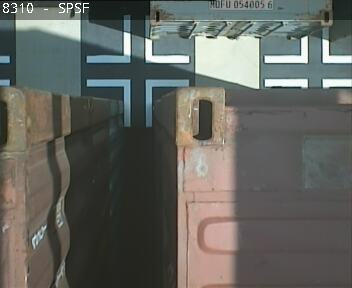groundmarker_1: (89, 78, 189, 127), (88, 15, 188, 63), (262, 16, 352, 64)
